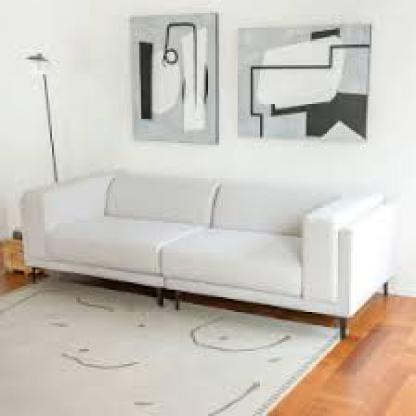sofa: (15, 165, 401, 323)
